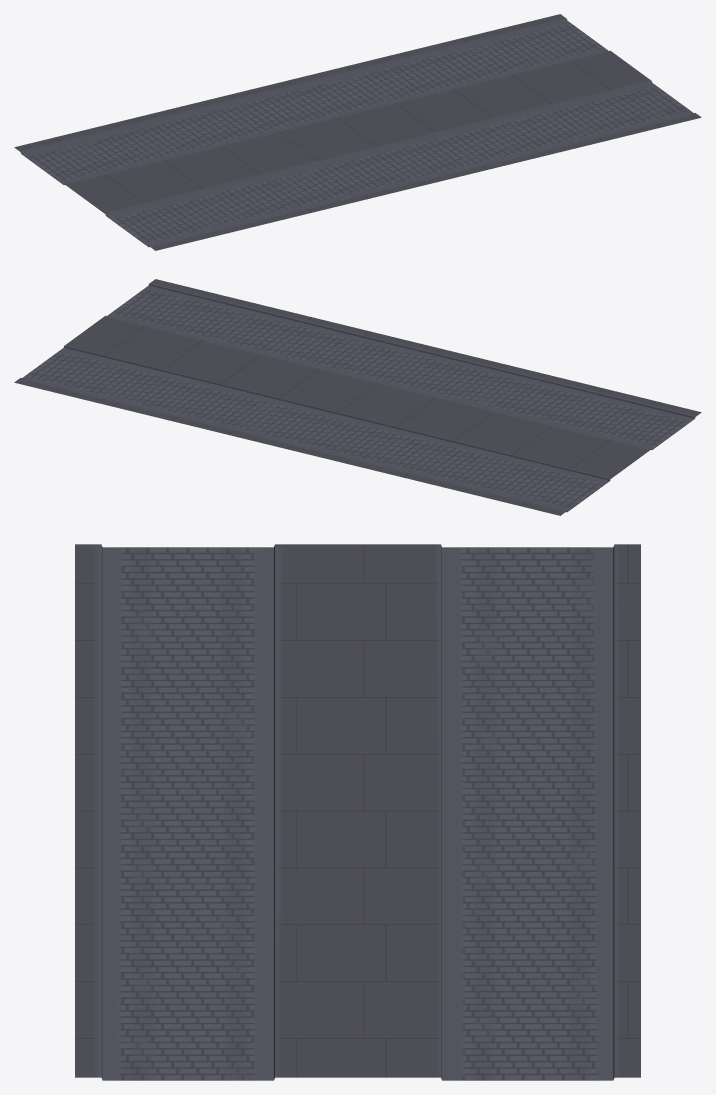
File: Street.fbx
3 renders of one model, top to bottom at view 1: azimuth 30°, elevation 25°; view 2: azimuth 150°, elevation 25°; view 3: azimuth 270°, elevation 25°, orthographic. The views are drawn at different scales.
Visible parts, largest first — view 1: Plane; view 2: Plane; view 3: Plane.
Part boxes in pixels (x1=…): Plane: x1=14, y1=14, x2=701, y2=250; Plane: x1=14, y1=279, x2=701, y2=515; Plane: x1=75, y1=544, x2=640, y2=1080.
Bounding box in the file's own units: 1990 × 10.99 × 4436.
